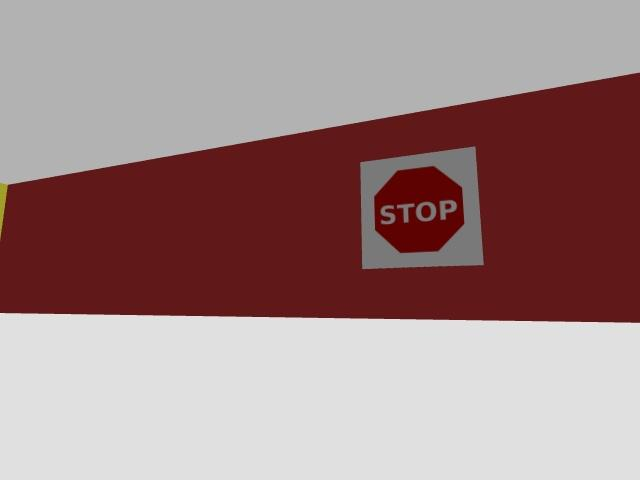stop: (361, 146, 483, 269)
